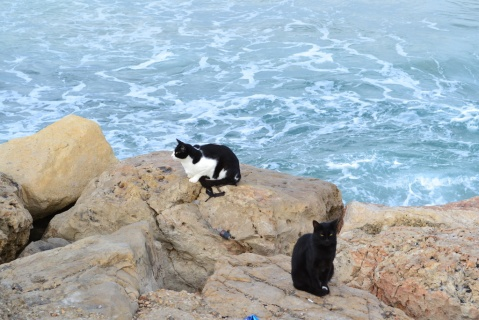Cat: (291, 218, 338, 296), (171, 137, 241, 187)
